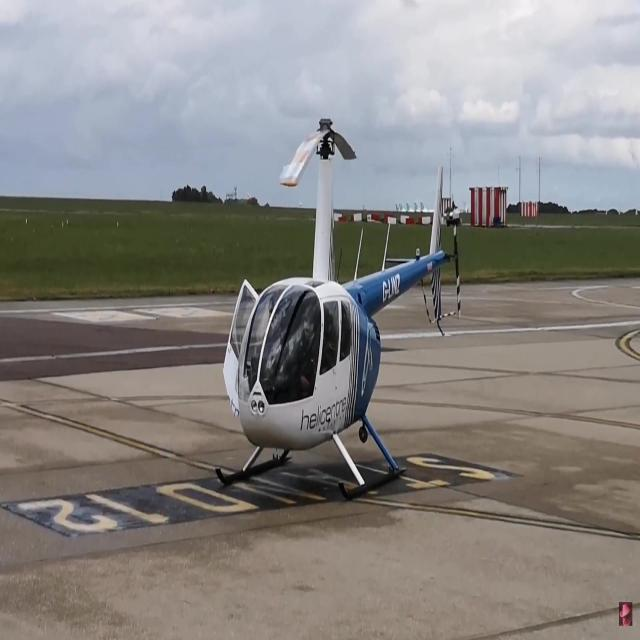CIV_HELO: (212, 117, 456, 504)
